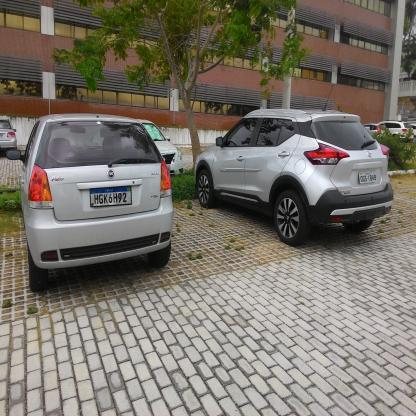PlacaM: (90, 186, 132, 207)
